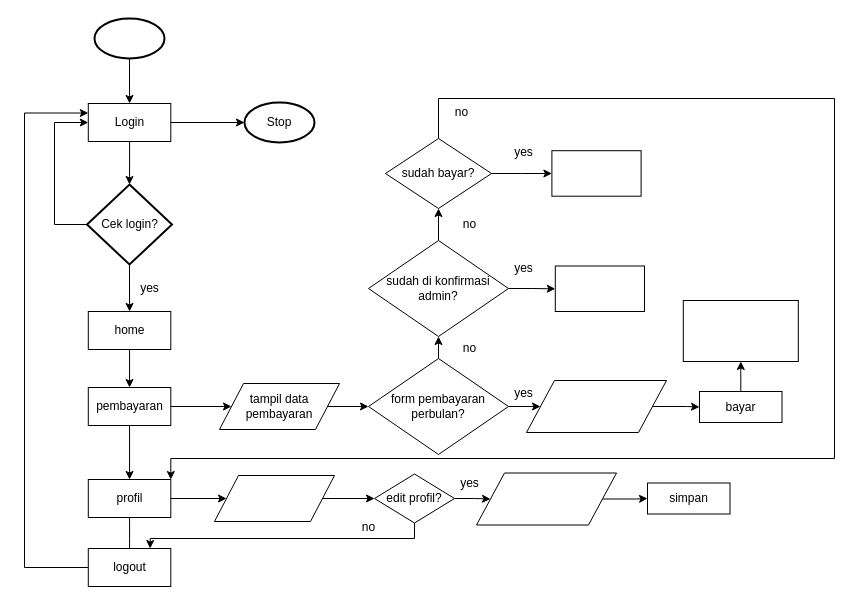
This 860x604 diagram has some shape labels left out. The centre of each missing label's shape, as x and y in pixels:
dapat invoice belum lunas: the point at 596,173
dapat invoice sudah lunas: the point at 599,288
edit profil: the point at 546,498
input pembayaran perbulan: the point at 596,406
menunggu konfirmasi admin: the point at 740,331
Start: the point at 129,38
tampil profil: the point at 274,498
